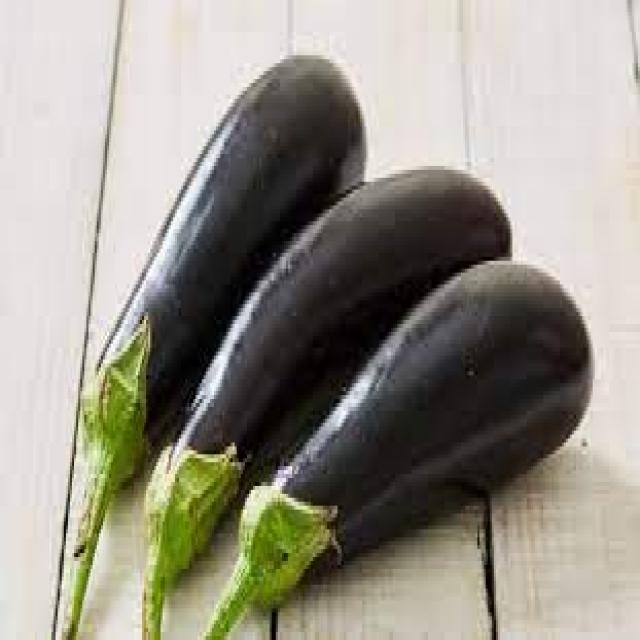eggplant: (150, 166, 510, 529), (242, 261, 592, 604), (88, 56, 364, 450)
